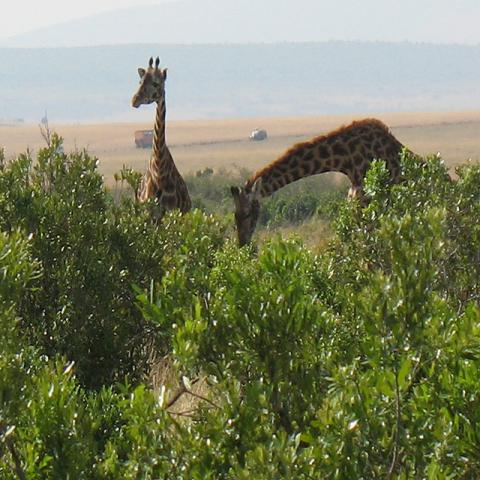truck: (136, 131, 154, 148), (249, 127, 267, 141)
